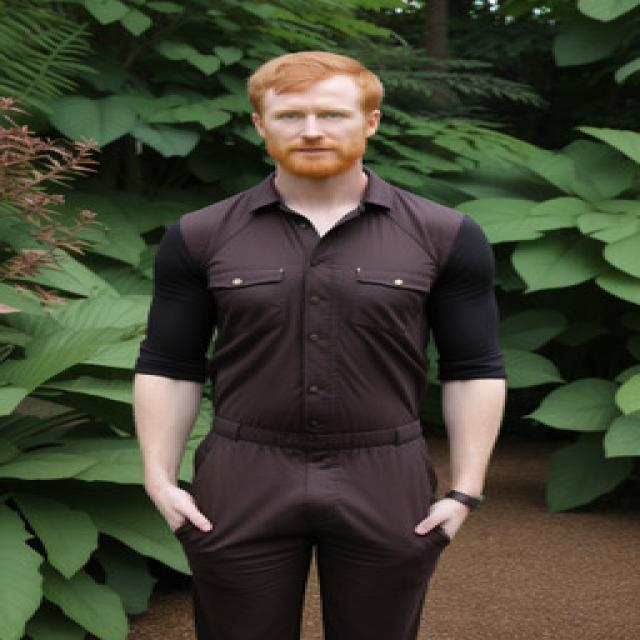Ai human 2: (121, 39, 530, 640)
